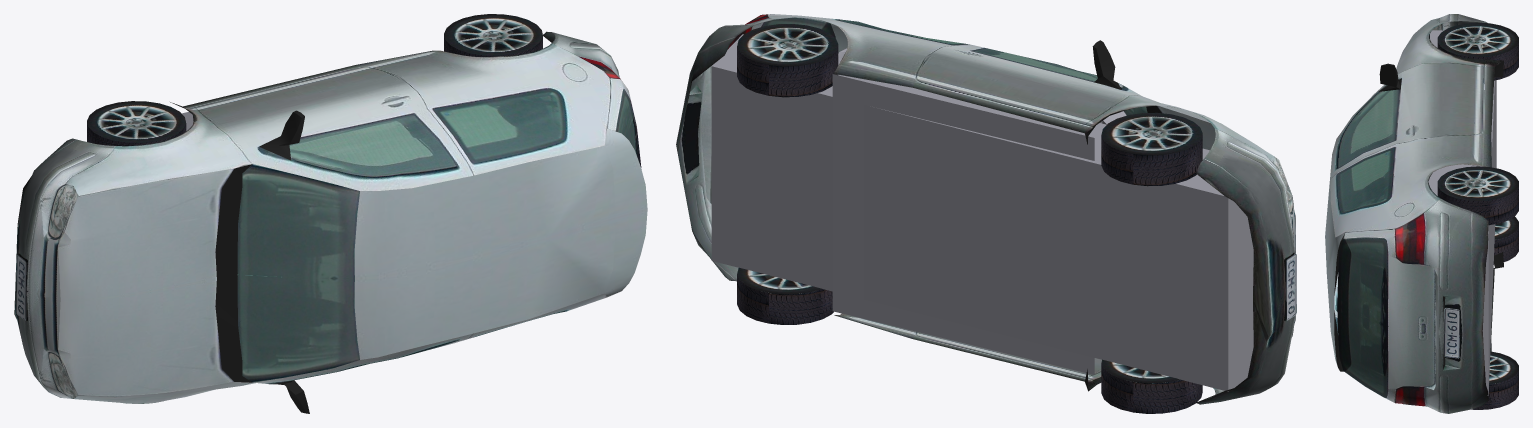
Rendered from Car_07.obj.
3 views of the same model, side by side, from view 1: azimuth 30°, elevation 25°; view 2: azimuth 150°, elevation 25°; view 3: azimuth 270°, elevation 25° (orthographic). The views are drawn at different scales.
Visible parts, largest first — view 1: _7body, _7tyres, _7tyresurf, _7plates; view 2: _7fill, _7body, _7tyresurf, _7tyres, _7plates; view 3: _7body, _7tyres, _7tyresurf, _7fill, _7plates.
Boxes of the visible parts, <box> form: _7body: <box>14,31,647,413</box>; _7tyres: <box>87,14,542,142</box>; _7tyresurf: <box>87,35,542,146</box>; _7plates: <box>16,255,26,320</box>; _7fill: <box>711,34,1253,391</box>; _7body: <box>676,14,1295,404</box>; _7tyresurf: <box>737,46,1202,413</box>; _7tyres: <box>737,24,1202,383</box>; _7plates: <box>1286,253,1296,320</box>; _7body: <box>1325,14,1503,413</box>; _7tyres: <box>1437,22,1518,384</box>; _7tyresurf: <box>1437,43,1518,409</box>; _7fill: <box>1428,30,1496,395</box>; _7plates: <box>1444,307,1459,358</box>.
Size of the model in its own units: 4.16 by 2 by 1.42.
